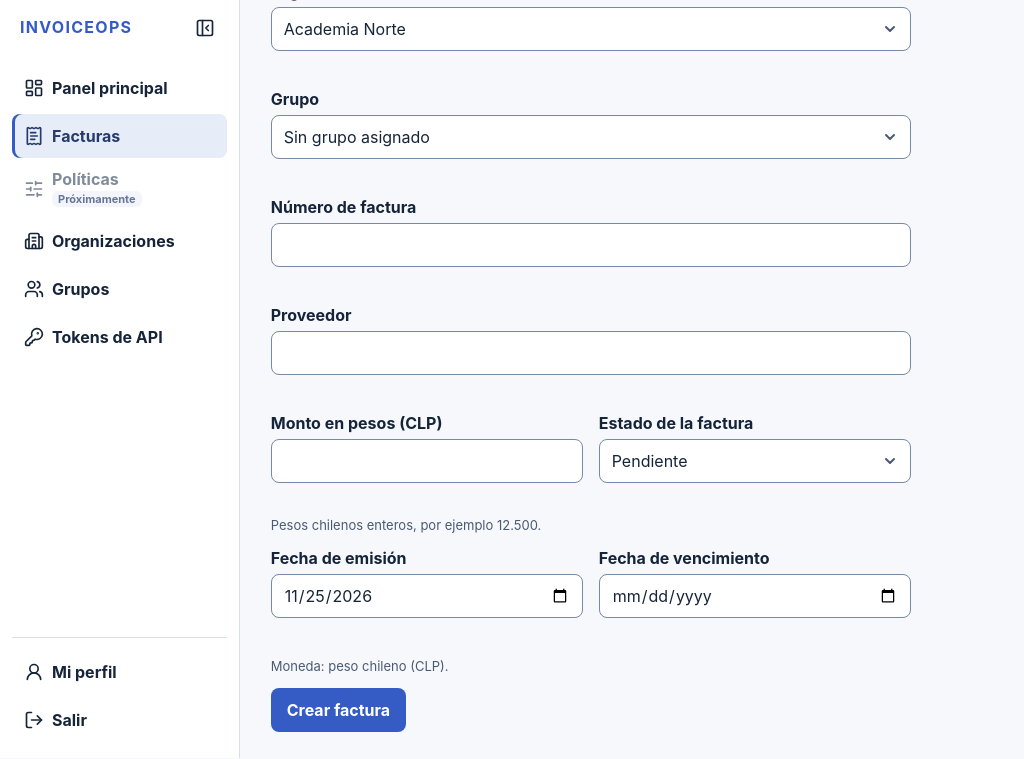
Scenario: selector contract anchors › points the control at a field-tagged error after an empty submit
(page scrolled)
expect the field labelled "Número de factura" is shown: met, box [271,223,911,267]
What coordinates should you click on to do the following:
click the button "Crear factura"
I would click on:
 (338, 710)
Its box is [271,688,406,732].
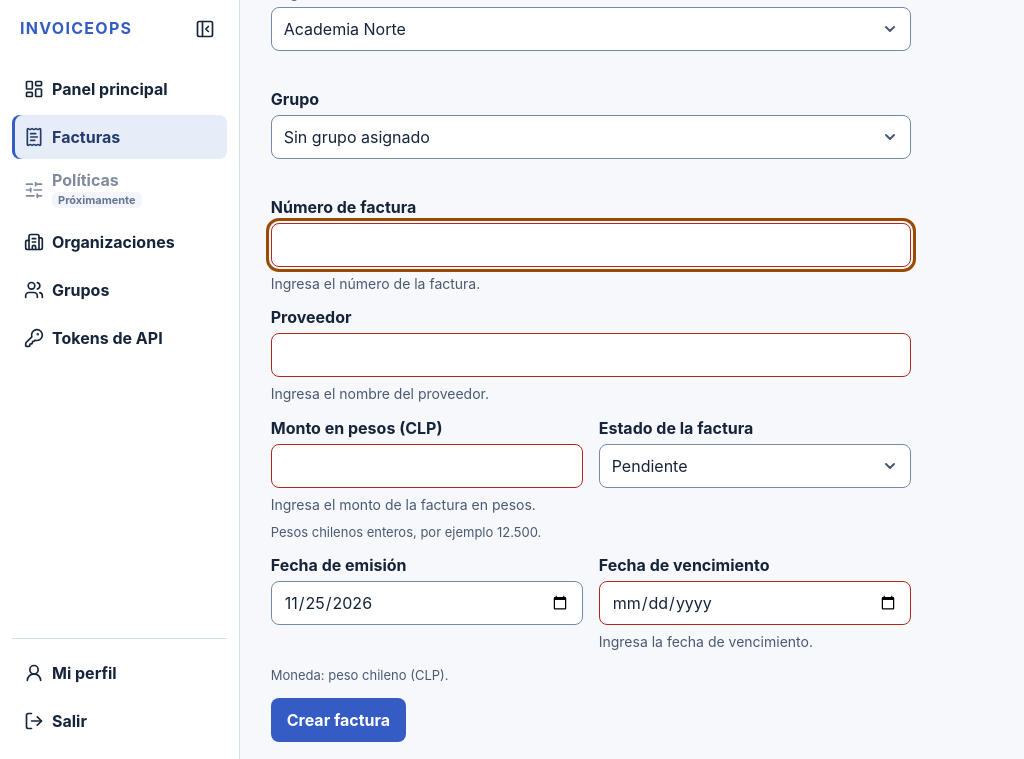
expect the text with test id "invoice-create-business-id-error" reads "Ingresa el número de la factura.": met, box [271,275,480,292]
